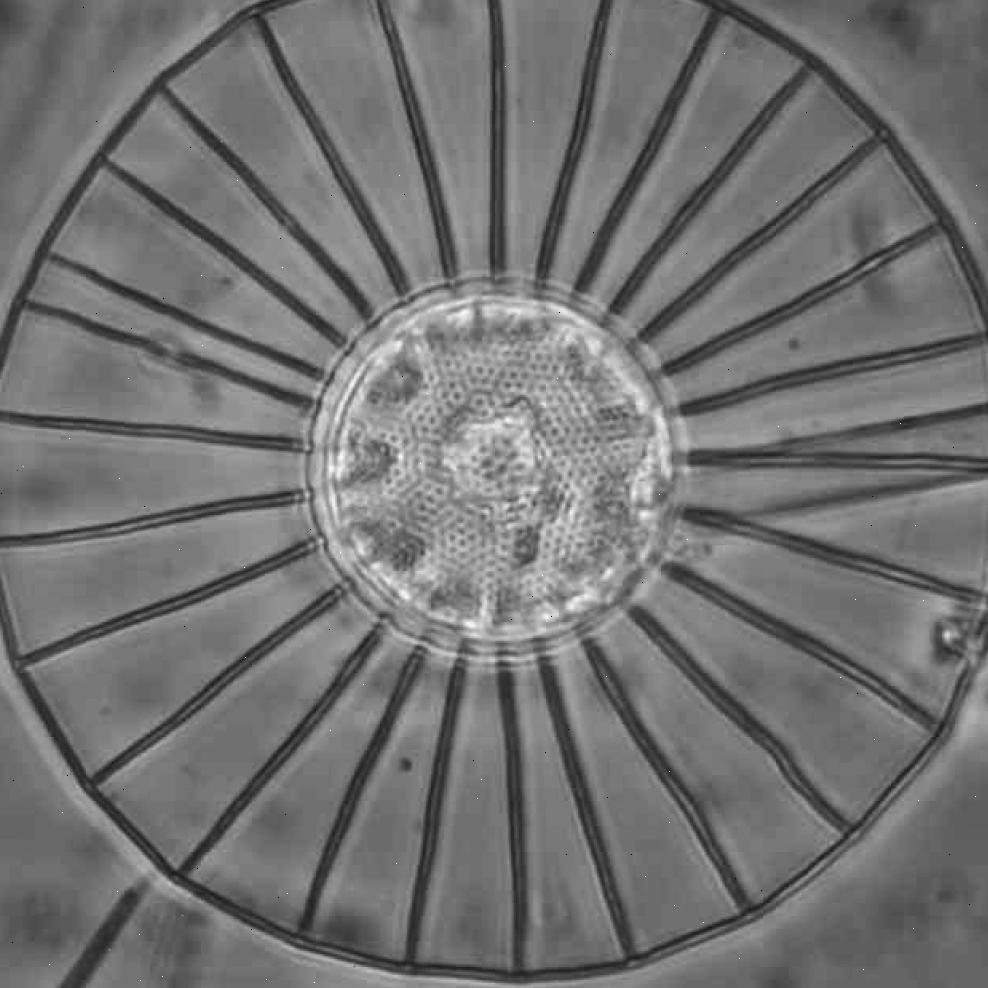planktoniella_sol: (0, 0, 988, 980)
